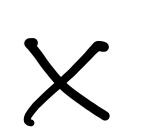mult: (24, 38, 110, 126)
